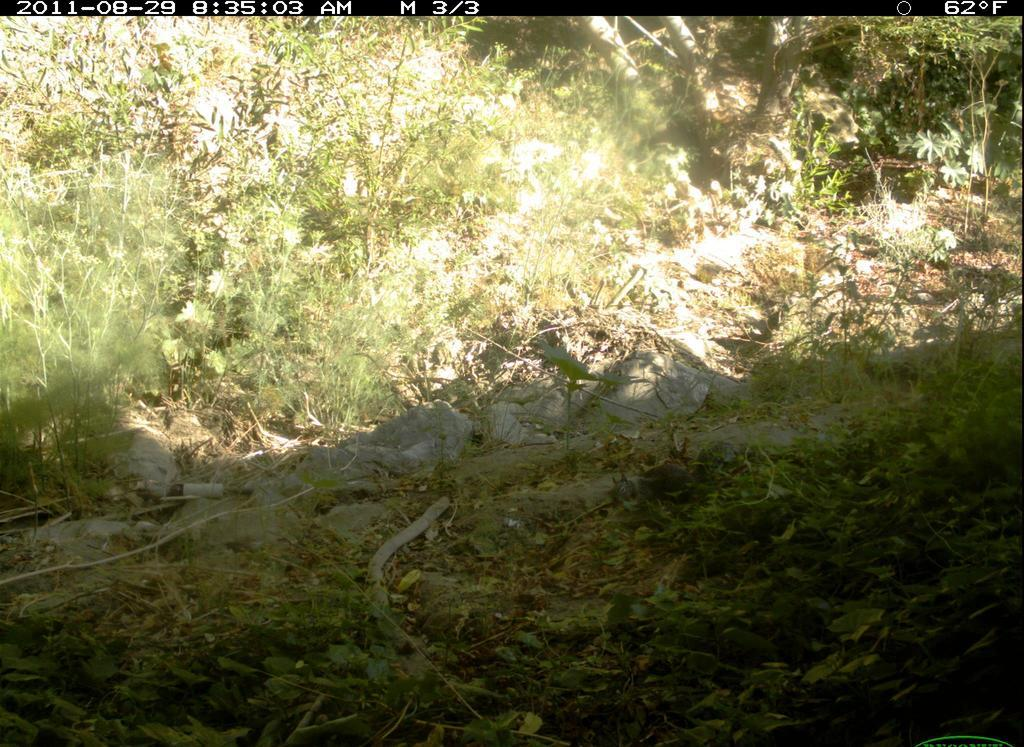squirrel: (609, 461, 701, 511)
